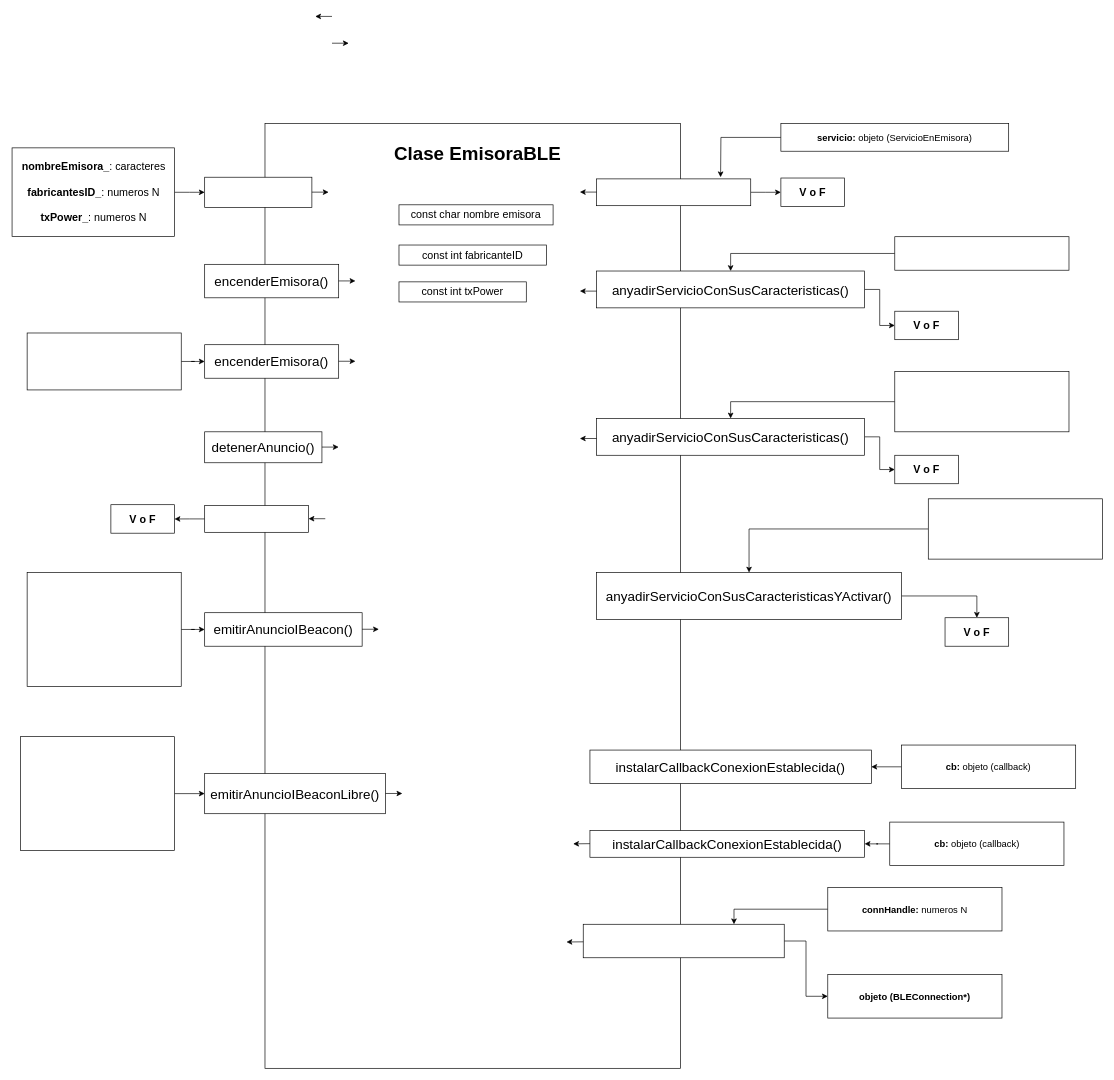
Some shapes in this 1114 by 1080 pixel diagram are drawn without their labels. The shapes that lost their labels are listed below. From the top down, each one's box as (x1, y1, x2, y2) in pixels, then its label:
(204, 177, 312, 207): EmisoraBle()
(596, 178, 751, 206): anyadirServicio()
(894, 236, 1069, 270): servicio: objeto
(26, 332, 181, 390): cbce: objeto (callback) cbct: objeto (callback)
(894, 371, 1069, 432): servicio: objeto caracteristica: objeto restoCaracteristicas: objetos
(204, 505, 309, 532): estaAnunciado()
(928, 498, 1102, 559): servicio: objeto restoCaracteristicas: objetos
(26, 572, 181, 686): beaconUUID: [ numeros N ] major: numeros N minor: numeros N rssi: numeros N
(20, 736, 175, 851): carga: caracteres tamanyoCarga: numeros N
(583, 924, 784, 958): getConexion()
